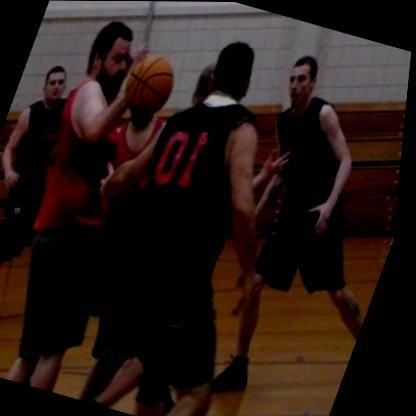basketball: (116, 46, 185, 124)
